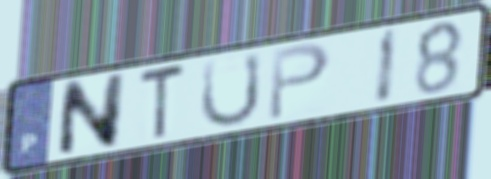8: (412, 19, 467, 98)
I: (372, 25, 401, 107)
N: (54, 70, 129, 161)
P: (265, 39, 334, 125)
T: (137, 59, 189, 145)
U: (197, 48, 265, 131)
